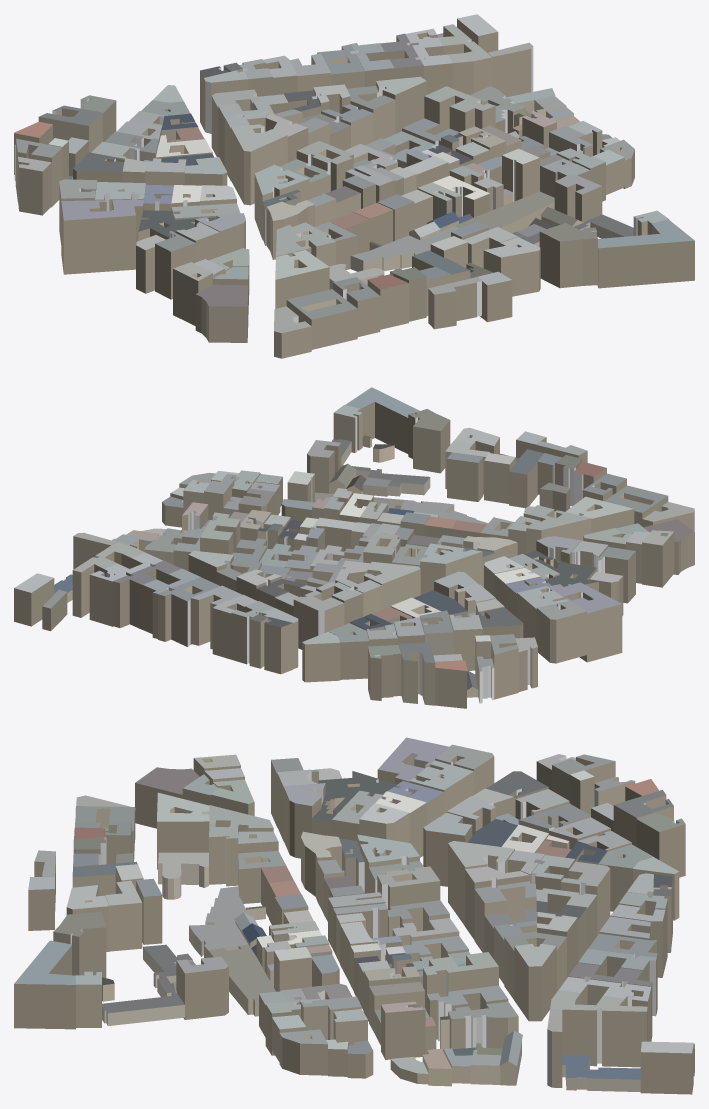
3 views of the same model, one above another, from view 1: azimuth 30°, elevation 25°; view 2: azimuth 150°, elevation 25°; view 3: azimuth 270°, elevation 25° (orthographic). The views are drawn at different scales.
Parts seen in each view (by area): view 1: tuile; view 2: tuile; view 3: tuile.
Part boxes in pixels (bbox=[...]): tuile: bbox=[14, 14, 694, 358]; tuile: bbox=[14, 387, 694, 708]; tuile: bbox=[14, 737, 694, 1094].
Bounding box in the file's own units: 273 × 31.21 × 268.
